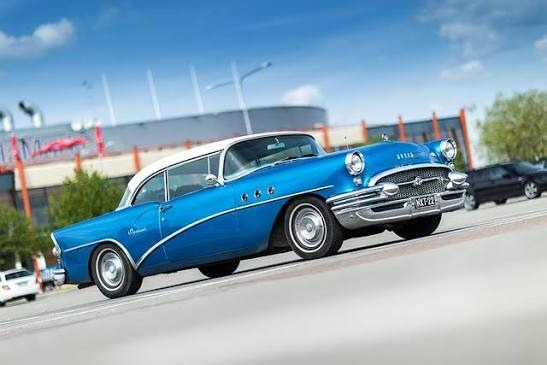car: (68, 129, 462, 283), (68, 133, 452, 284), (291, 140, 464, 246), (457, 160, 546, 209), (1, 265, 39, 306)
